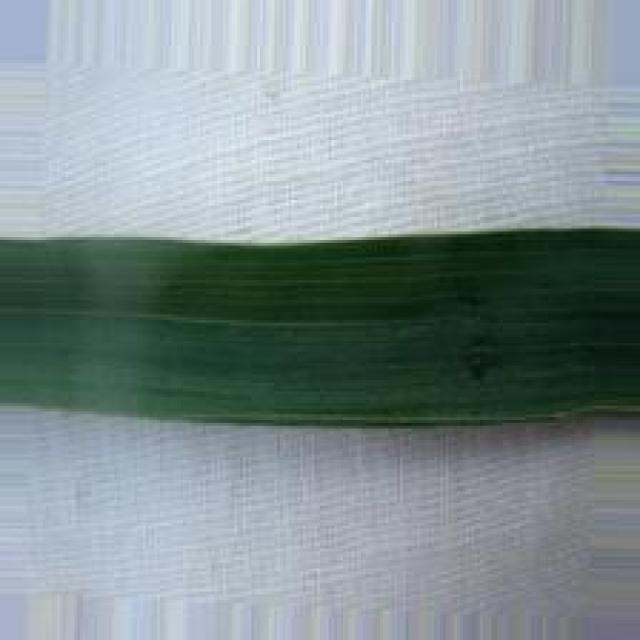Healthy: (0, 227, 640, 430)
